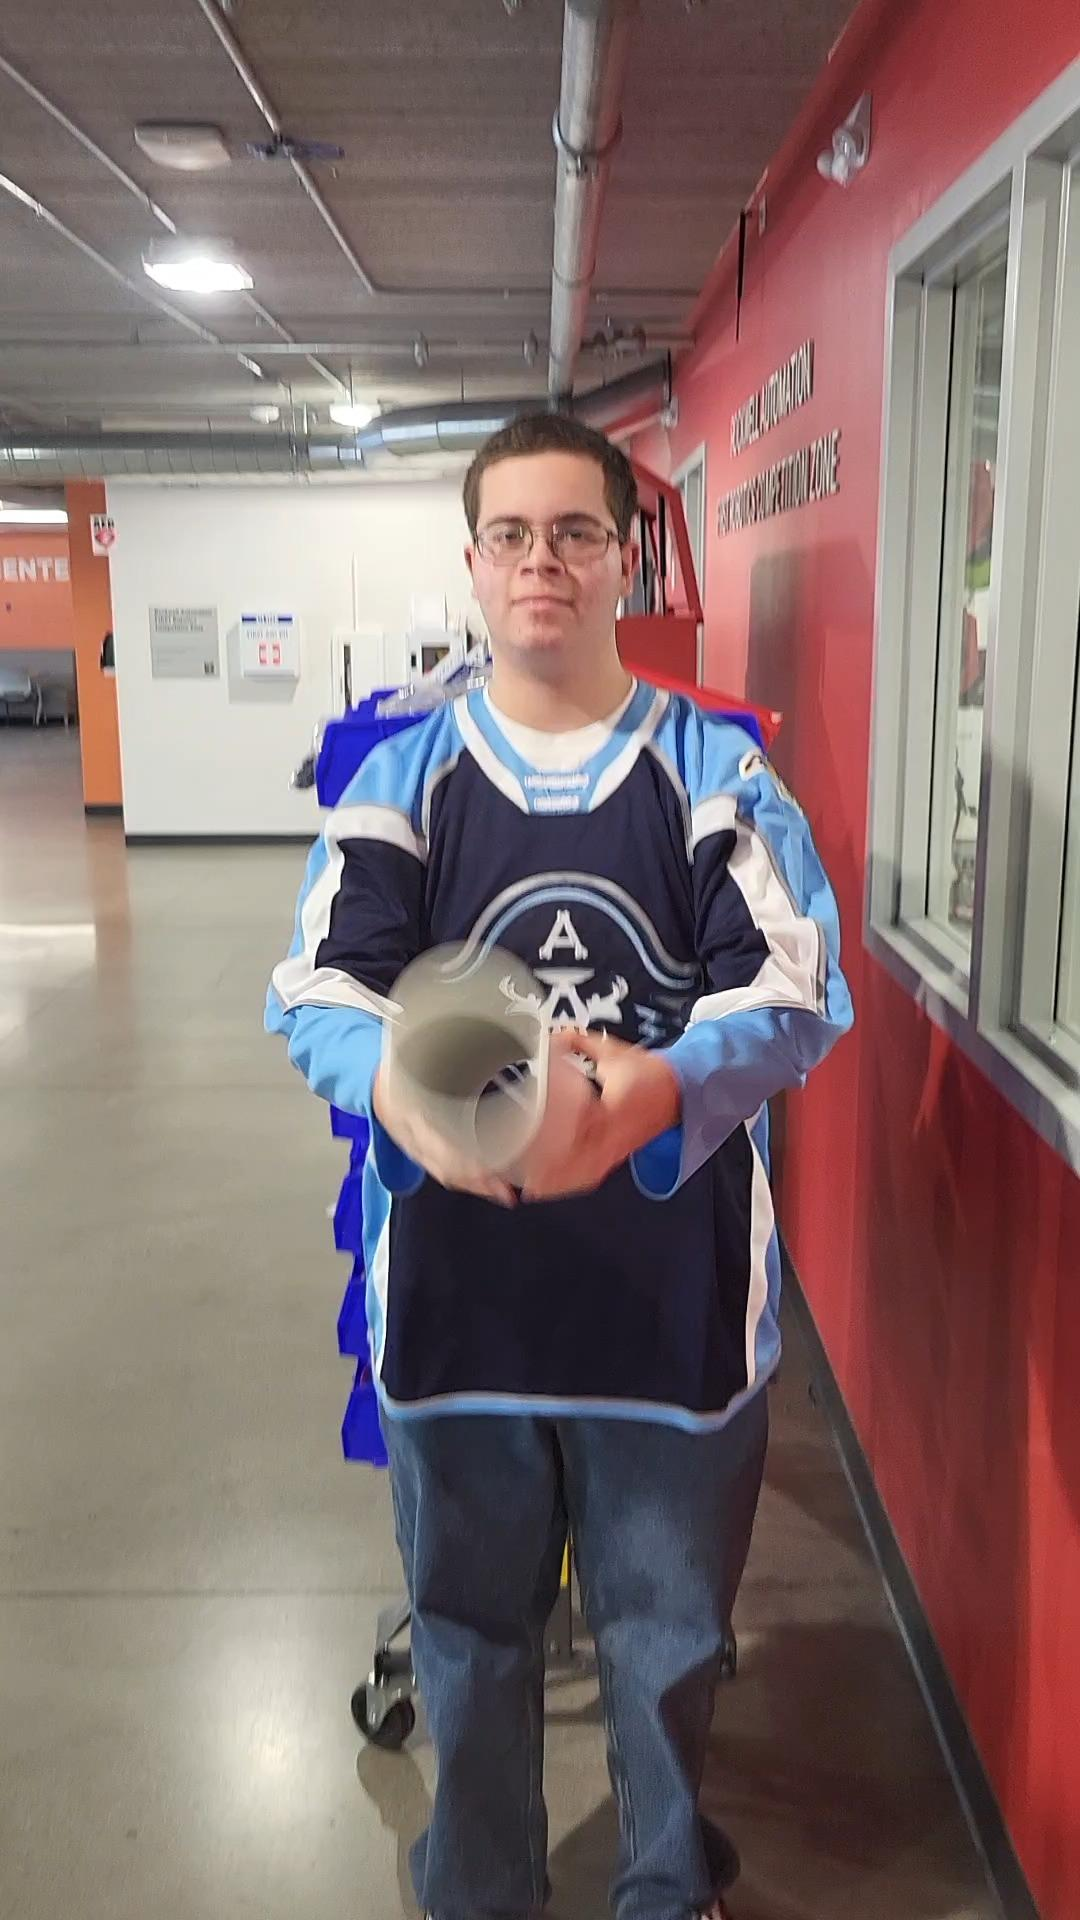coral: (364, 920, 560, 1195)
